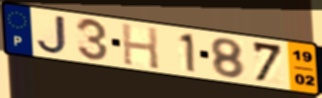1: (177, 32, 198, 75)
3: (74, 17, 110, 63)
7: (251, 40, 285, 84)
8: (210, 37, 248, 80)
H: (120, 21, 162, 71)
J: (35, 14, 70, 56)
